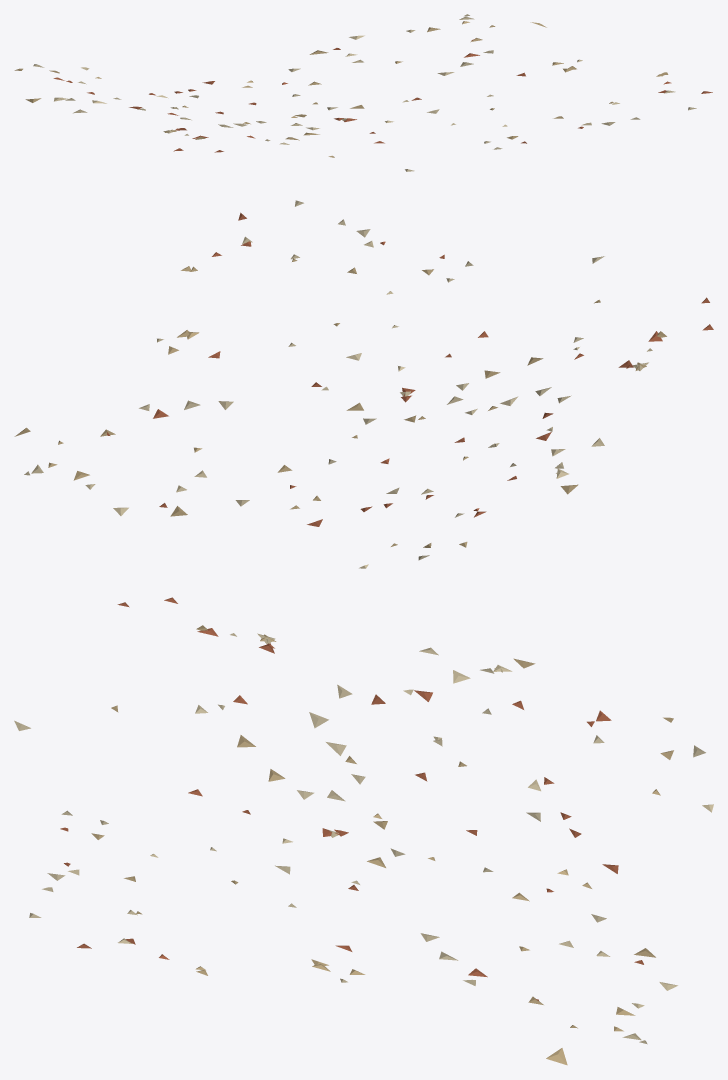
Rendered from dam_upper_slot_step_detail2.glb.
3 renders of one model, top to bottom at view 1: azimuth 30°, elevation 25°; view 2: azimuth 150°, elevation 25°; view 3: azimuth 270°, elevation 25°, orthographic. The views are drawn at different scales.
Parts seen in each view (by area): view 1: dam_upper_slot_step_detail2; view 2: dam_upper_slot_step_detail2; view 3: dam_upper_slot_step_detail2.
Boxes of the visible parts, x1,y1,x2,y2 form: dam_upper_slot_step_detail2: (14, 14, 712, 171); dam_upper_slot_step_detail2: (14, 200, 713, 568); dam_upper_slot_step_detail2: (14, 597, 713, 1065).
Size of the model in its own units: 20.76 by 5.05 by 18.98.
